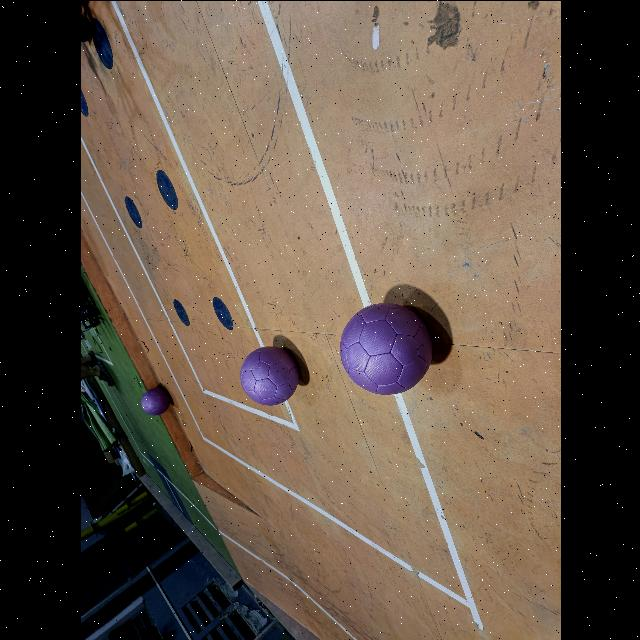P: (339, 304, 431, 394), (240, 347, 298, 405), (140, 388, 168, 414)
